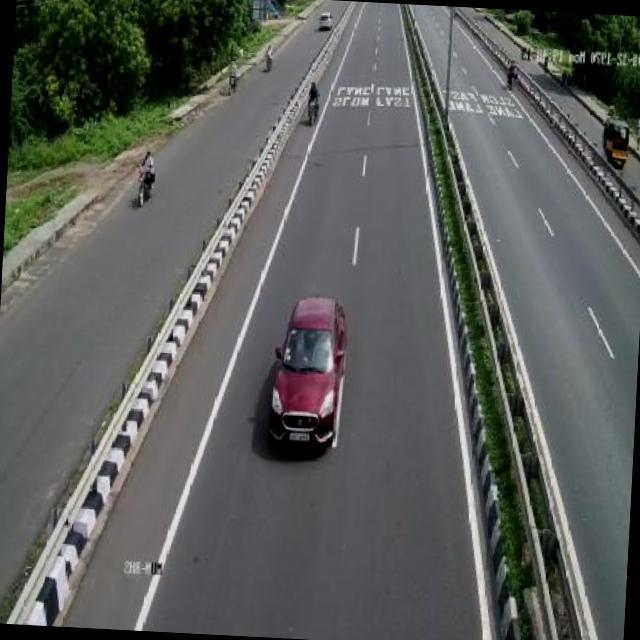car: (265, 286, 348, 457)
